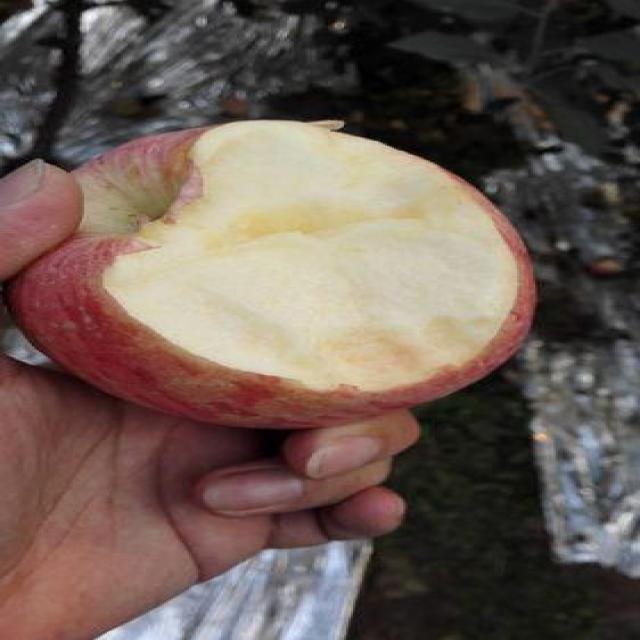Rotten: (39, 134, 550, 434)
